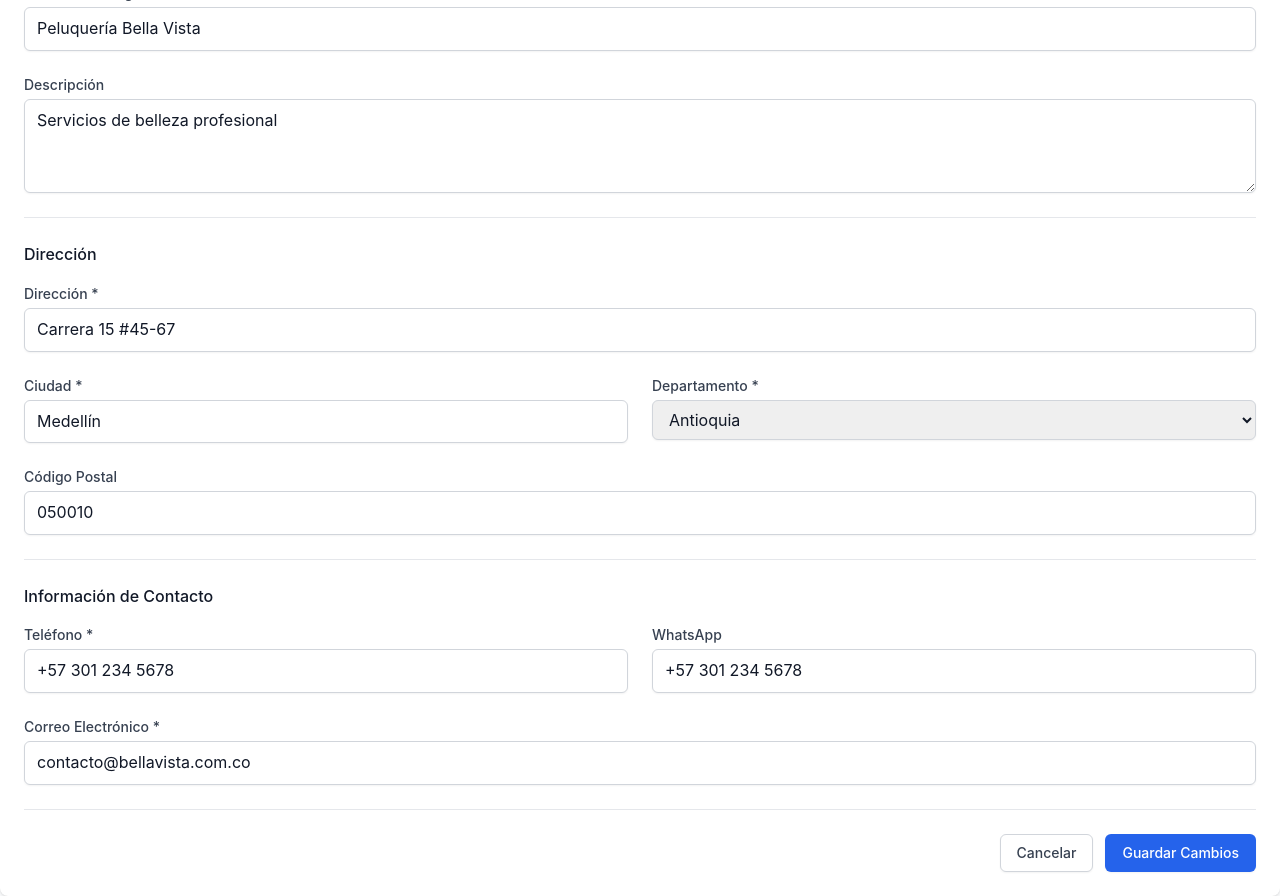
Test: BusinessProfileEditForm › disables buttons during loading state
This screenshot has width=1280, height=896.
(page scrolled)
Click the button "Guardar Cambios": coordinates (1181, 852) left=1105, top=834, right=1256, bottom=872
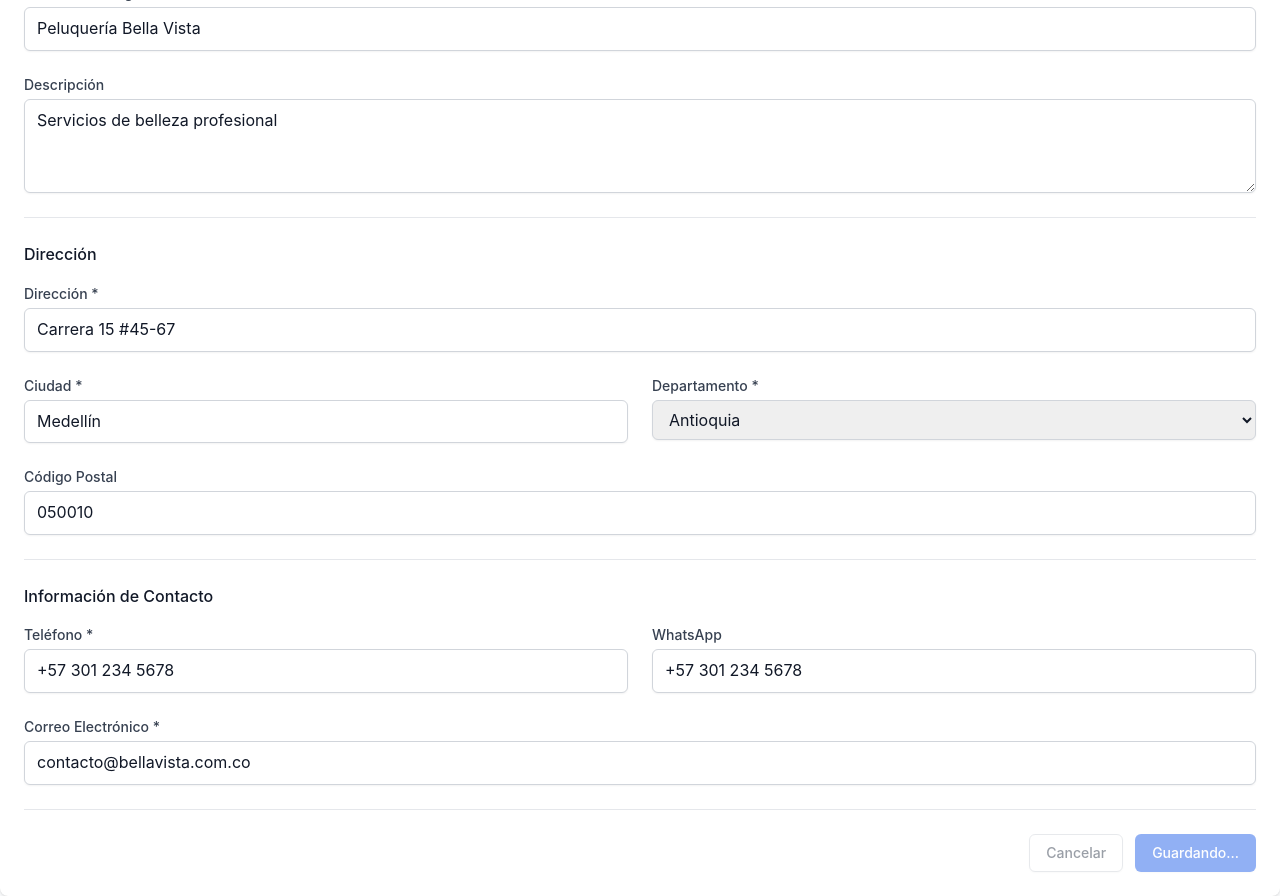
Result: the button named "guardar cambios" is disabled at left=1135, top=834, right=1256, bottom=872
Result: the button "Cancelar" is disabled at left=1029, top=834, right=1123, bottom=872
